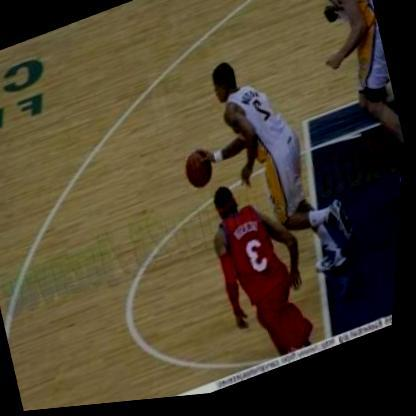basketball: (177, 145, 223, 202)
